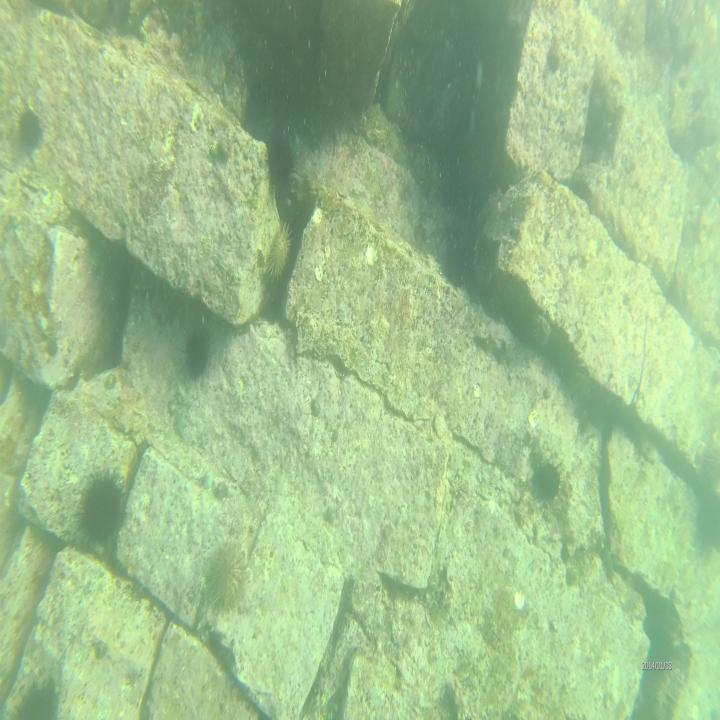echinus: (75, 466, 125, 554), (204, 534, 247, 619), (12, 673, 61, 717), (261, 220, 293, 286), (531, 457, 562, 507), (183, 331, 211, 382), (269, 135, 296, 185), (18, 111, 43, 156), (543, 38, 566, 73)
